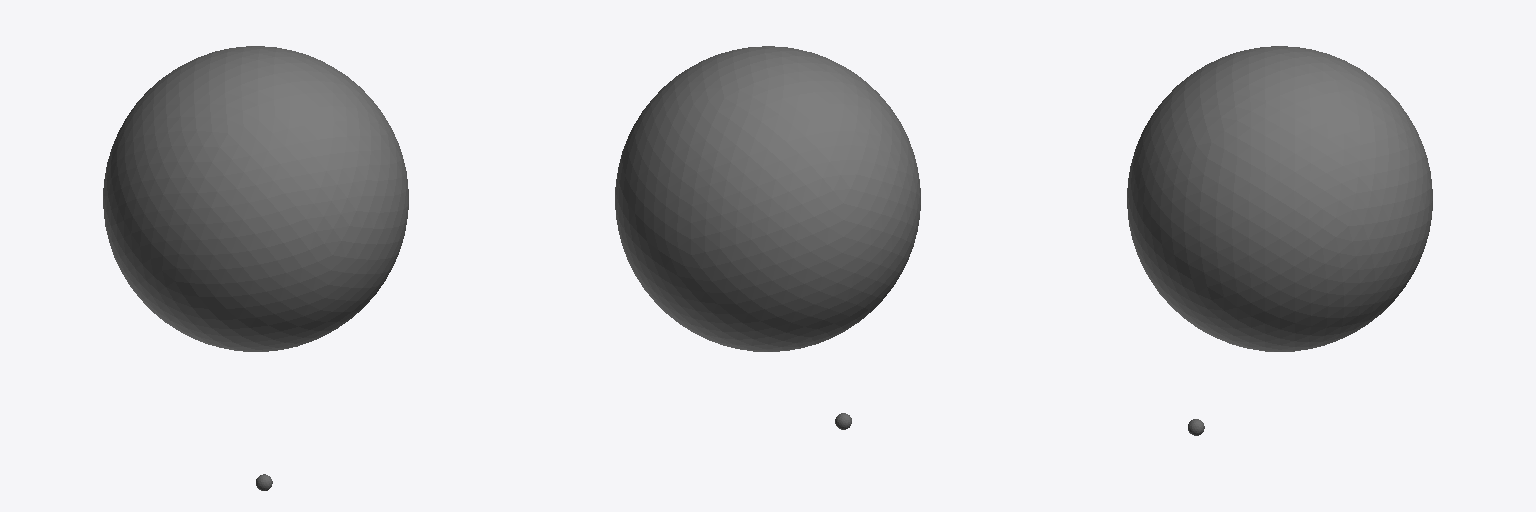
File: endor.obj
3 renders of one model, left to right at view 1: azimuth 30°, elevation 25°; view 2: azimuth 150°, elevation 25°; view 3: azimuth 270°, elevation 25°, orthographic.
Visible parts, largest first — view 1: atmos; view 2: atmos; view 3: atmos.
Boxes of the visible parts, x1=… form: atmos: x1=103, y1=46, x2=408, y2=351; atmos: x1=615, y1=46, x2=920, y2=351; atmos: x1=1127, y1=46, x2=1432, y2=351.
Size of the model in its own units: 320 by 451 by 320.